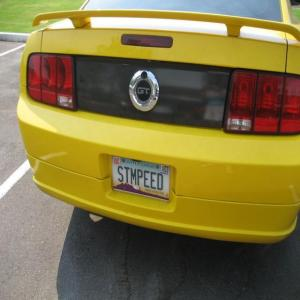Plate: (112, 156, 170, 201)
